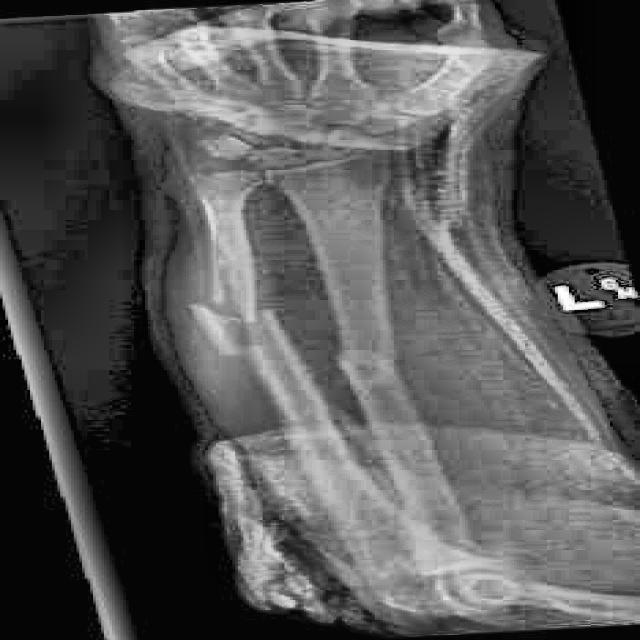forearm fracture: (130, 282, 341, 387)
